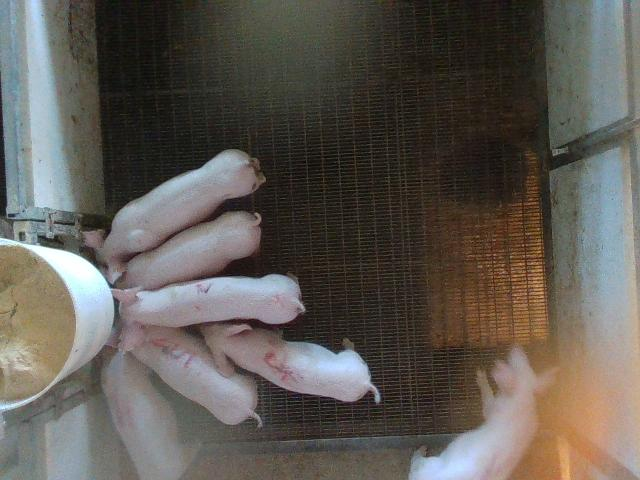pig-3: (118, 322, 261, 426)
pig-4: (101, 352, 196, 479)
pig-5: (200, 322, 380, 403)
